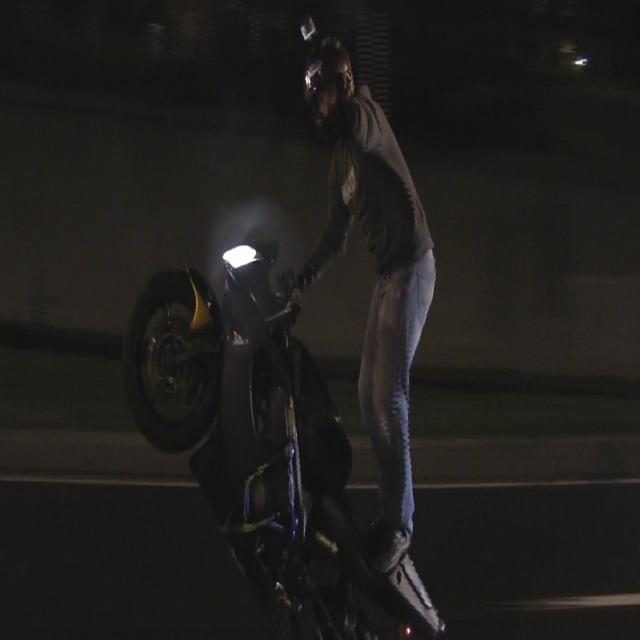Motorbike: (109, 207, 503, 640)
